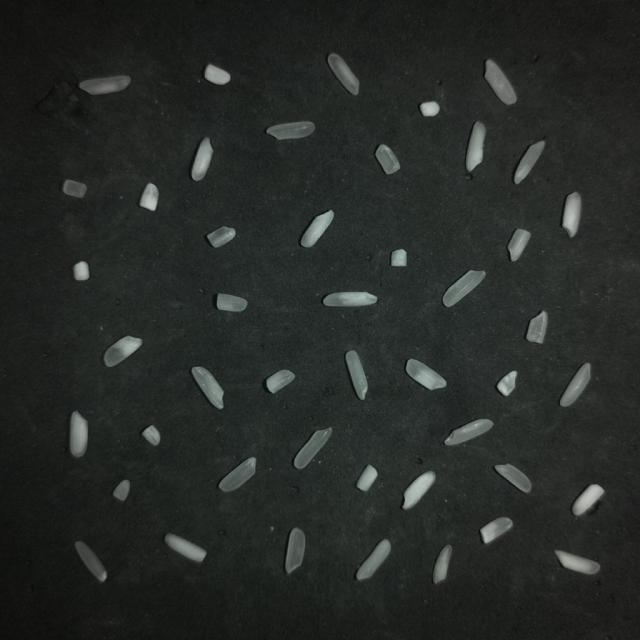broken: (494, 464, 531, 493), (375, 144, 399, 174), (207, 227, 236, 248), (217, 294, 247, 312), (62, 180, 86, 198), (113, 480, 130, 501)
chalky: (356, 539, 390, 581), (301, 210, 334, 248), (406, 359, 446, 389), (403, 472, 435, 509), (104, 336, 142, 367), (165, 534, 206, 562), (554, 550, 599, 574), (465, 122, 486, 172), (572, 484, 604, 516), (192, 137, 213, 181), (480, 517, 513, 543), (562, 192, 581, 237), (70, 411, 88, 457), (432, 544, 452, 584), (324, 292, 377, 306), (508, 229, 531, 261), (527, 311, 548, 343), (266, 370, 295, 393), (356, 464, 378, 491), (204, 64, 230, 85), (497, 371, 517, 396), (140, 184, 158, 211), (142, 425, 160, 446), (74, 261, 89, 281), (420, 102, 439, 116), (391, 249, 406, 266)
whole: (294, 428, 332, 469), (443, 270, 485, 307), (513, 140, 545, 184), (485, 60, 516, 104), (191, 367, 223, 409), (560, 363, 591, 406), (219, 457, 256, 492), (444, 419, 493, 445), (328, 54, 359, 95), (75, 541, 106, 582), (345, 350, 368, 399), (79, 75, 131, 94), (285, 528, 305, 574), (267, 122, 314, 139)
